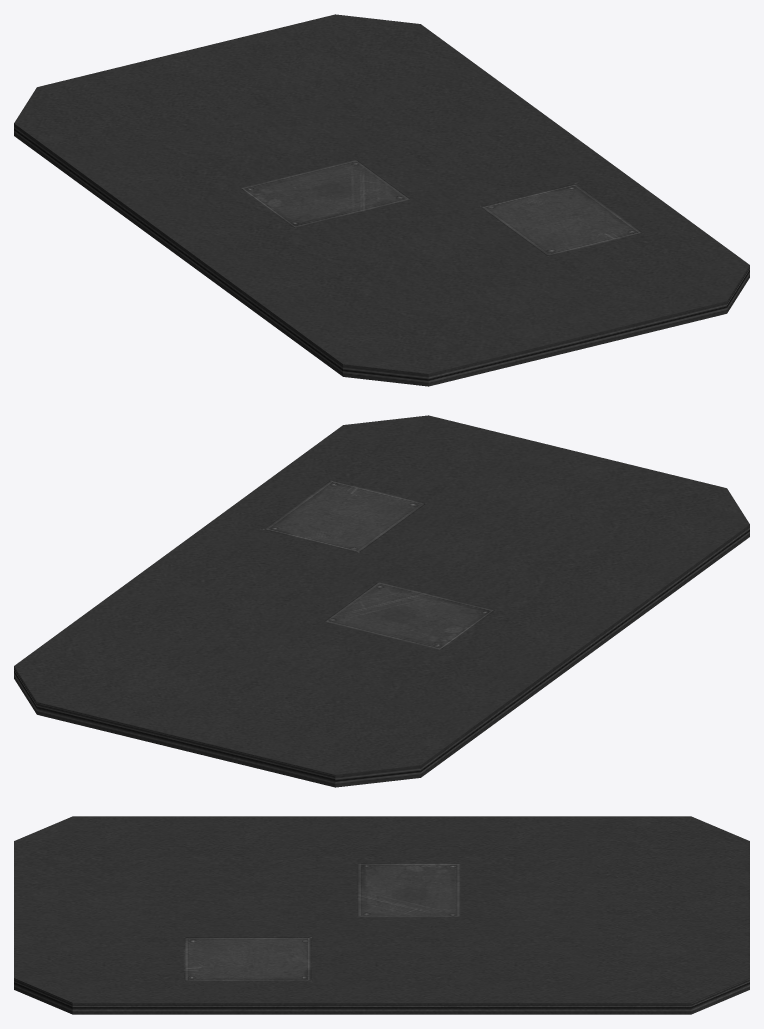
Rendered from Map_Platform_Border.fbx.
3 renders of one model, top to bottom at view 1: azimuth 30°, elevation 25°; view 2: azimuth 150°, elevation 25°; view 3: azimuth 270°, elevation 25°, orthographic. The views are drawn at different scales.
Parts seen in each view (by area): view 1: Map_Platform_Border; view 2: Map_Platform_Border; view 3: Map_Platform_Border.
Boxes of the visible parts, x1,y1,x2,y2 form: Map_Platform_Border: [14, 14, 749, 386]; Map_Platform_Border: [14, 415, 749, 787]; Map_Platform_Border: [14, 816, 749, 1014].
Bounding box in the file's own units: 1862 × 55.13 × 3106.
Materials: 1 (1 with a texture image).
